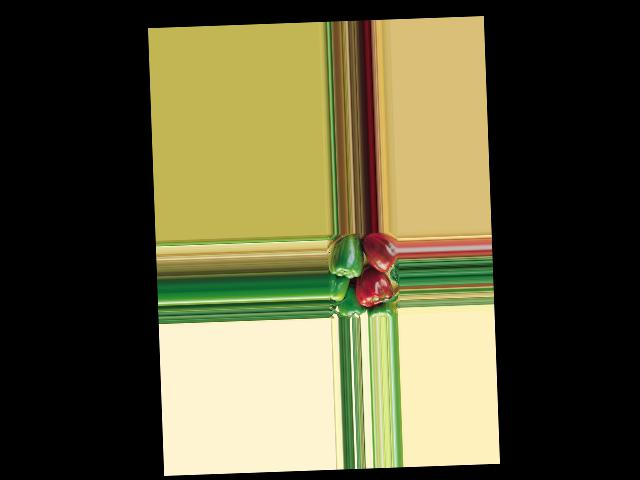bell_pepper: (364, 231, 397, 272)
